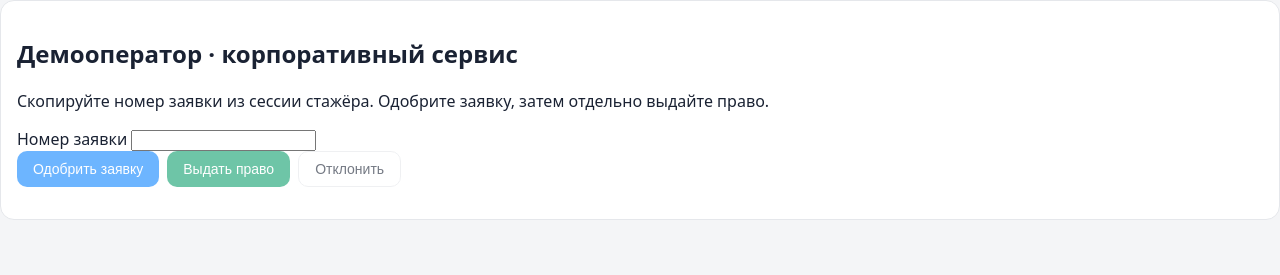
it: shows a server denial and leaves retry available
The image size is (1280, 275).
Type "foreign" into the field labelled "Номер заявки". click: (224, 140)
box: [131, 130, 316, 151]
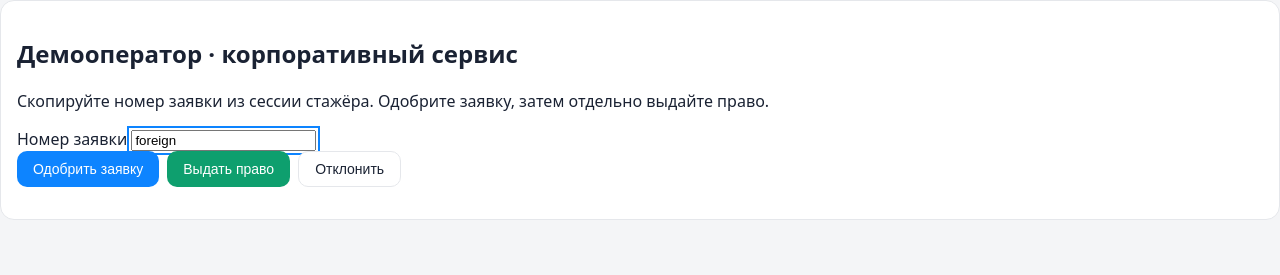
Click the button "Выдать право". click: (229, 169)
box: [167, 151, 290, 187]
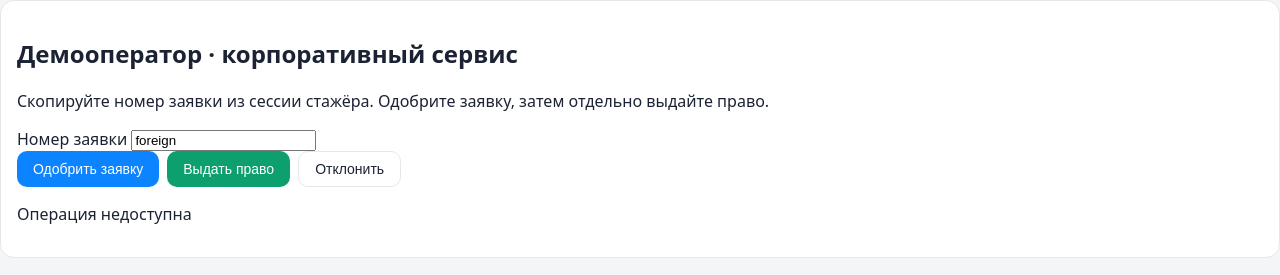
Expected: the button "Выдать право" is enabled, [167, 151, 290, 187]
Expected: the message reads "Операция недоступна", [17, 203, 192, 225]
